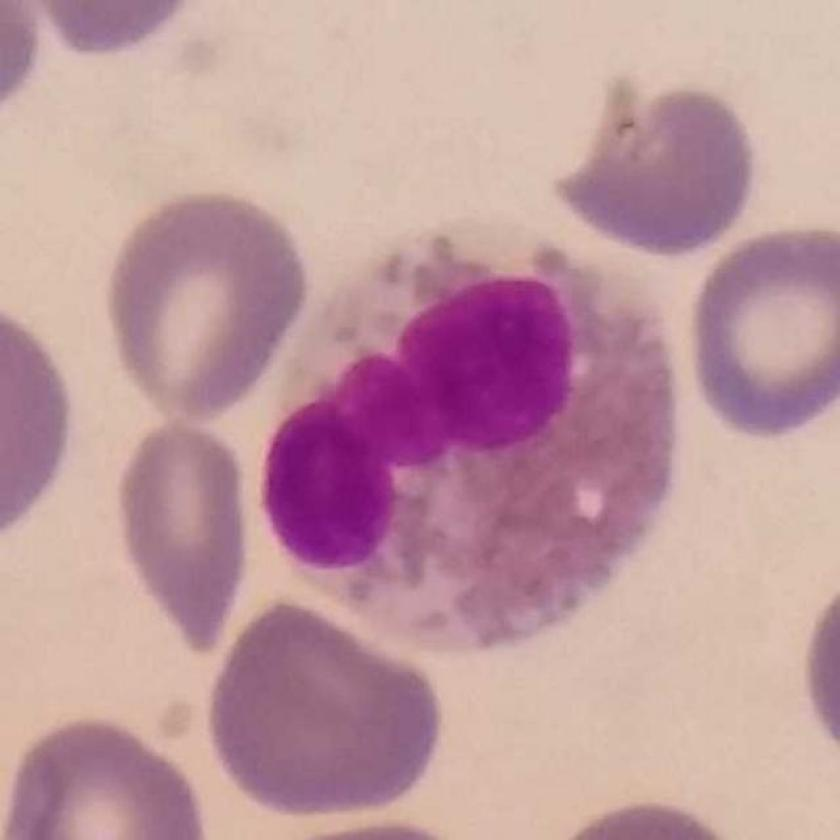eosinophil: (262, 211, 682, 665)
